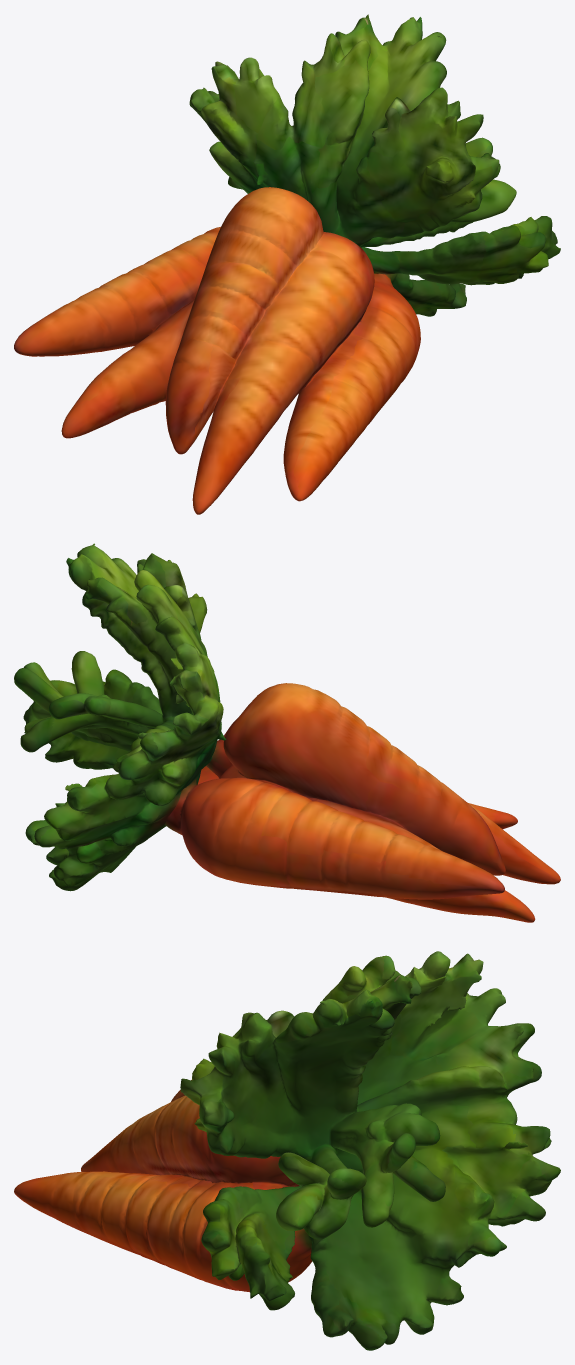
Rendered from ca-rot.glb.
The picture shows the model from 3 angles, top to bottom: view 1: azimuth 30°, elevation 25°; view 2: azimuth 150°, elevation 25°; view 3: azimuth 270°, elevation 25°; orthographic projection. The views are drawn at different scales.
Bounding box in the file's own units: 0.1459 × 0.0901 × 0.1197.
1 material, 1 textured.
